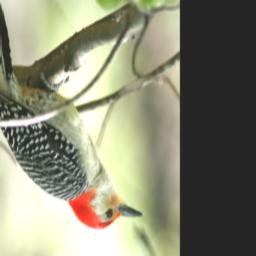Woodpecker: (0, 0, 143, 231)
